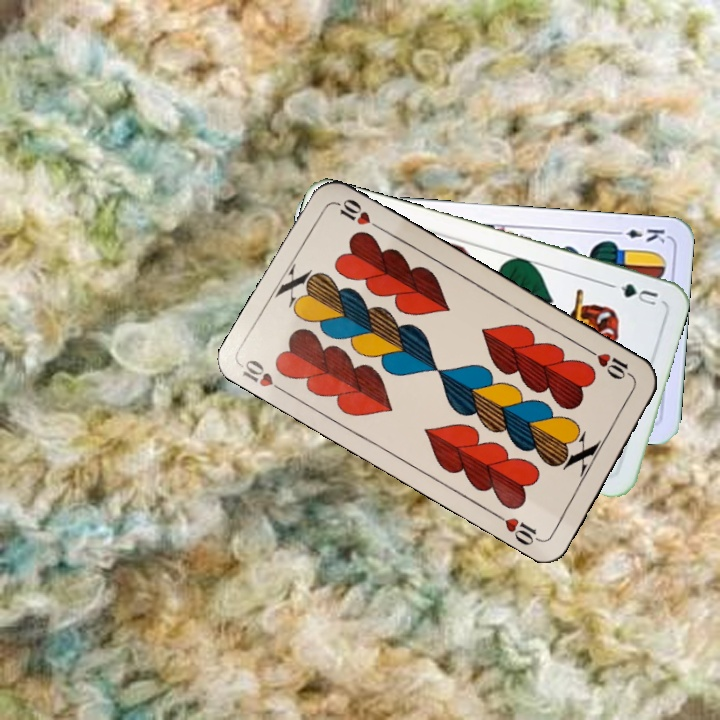EK: (609, 224, 668, 245)
GU: (606, 279, 661, 308)
H10: (236, 355, 291, 398), (584, 345, 637, 383)
